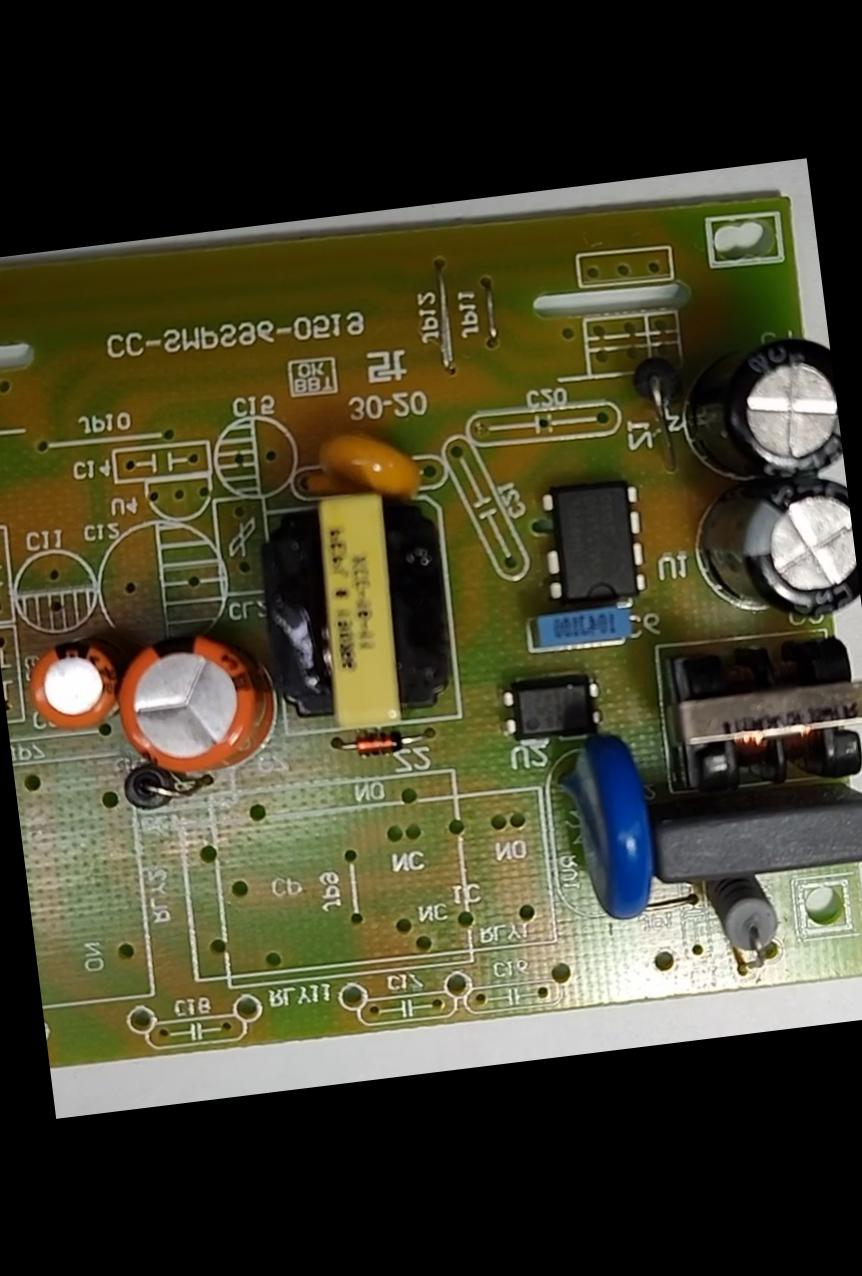Cap1: (103, 618, 290, 796)
Cap2: (13, 624, 130, 740)
Cap3: (686, 465, 862, 634)
Cap4: (652, 324, 844, 498)
MOSFET: (528, 469, 652, 623)
Mov: (538, 715, 671, 942)
Resistor: (688, 872, 798, 982)
Transformer: (244, 480, 470, 751), (656, 621, 861, 813)
